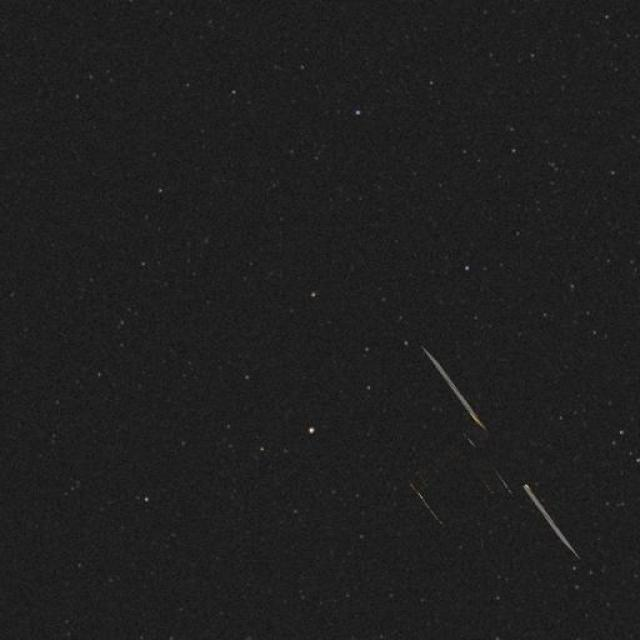soho: (372, 331, 576, 568)
